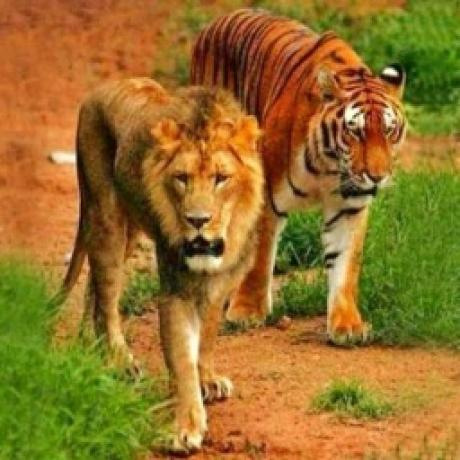Lion: (39, 73, 264, 458)
